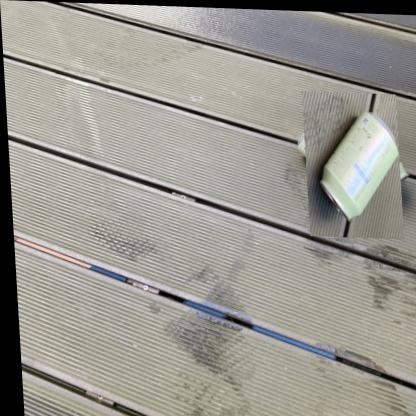trash: (320, 112, 398, 219)
